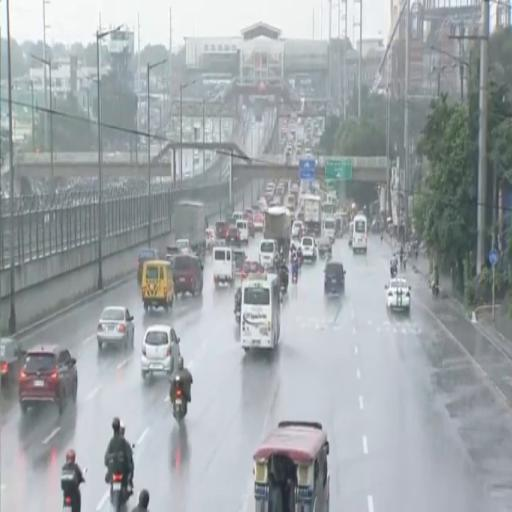bus: (240, 274, 280, 351), (352, 215, 368, 252)
car: (19, 346, 77, 412), (141, 325, 179, 378), (97, 307, 134, 349), (173, 254, 203, 295), (0, 338, 26, 385), (385, 277, 410, 312), (137, 248, 158, 283), (301, 236, 317, 262), (242, 261, 264, 279), (226, 227, 240, 246), (206, 228, 216, 250), (292, 220, 303, 238), (254, 213, 264, 232)
jeepney: (254, 422, 329, 511)
motorcycle: (110, 473, 132, 511), (171, 376, 187, 422), (62, 474, 77, 511), (280, 266, 288, 298), (431, 282, 440, 298), (297, 253, 303, 267), (292, 267, 297, 283), (391, 265, 397, 278)
truck: (173, 201, 205, 257), (264, 206, 291, 254), (301, 195, 321, 236)
